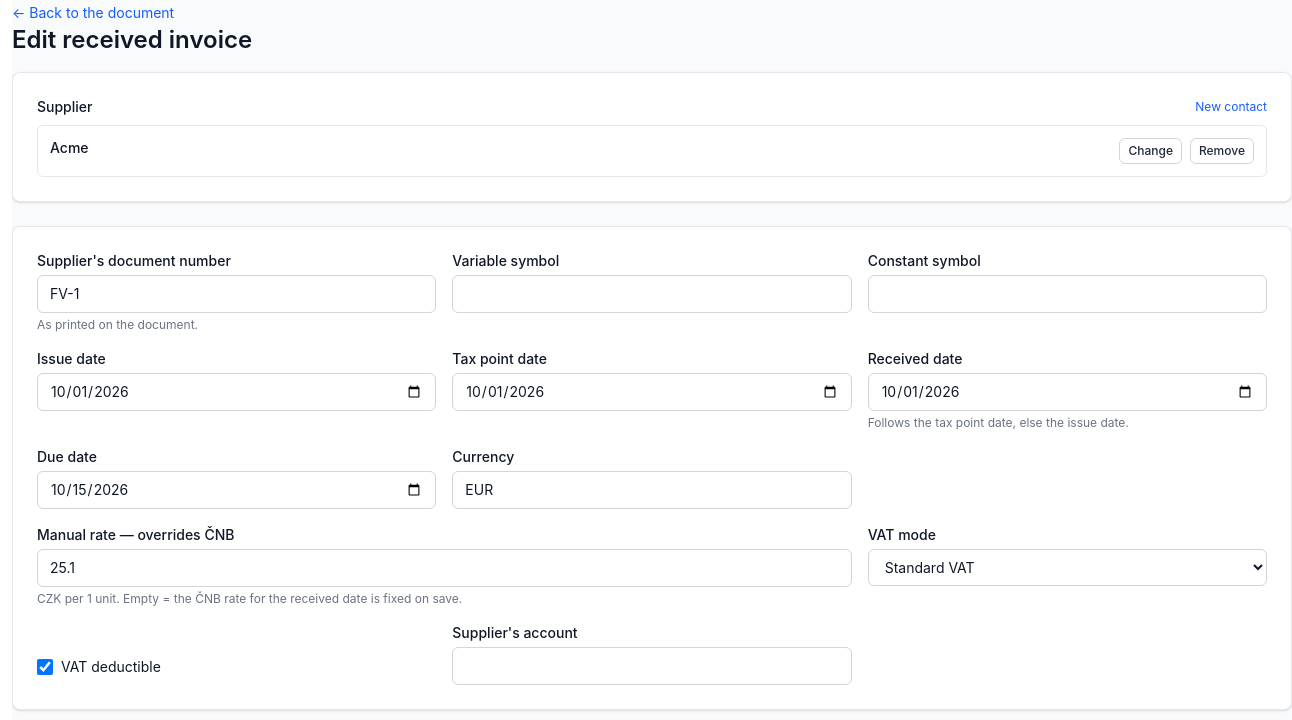
Test: ReceivedEditView › a filled-in manual rate skips the ČNB lookup and its note; clearing it looks the rate up
Clear the field with id "rec-exchangeRate" at (444, 568), box [37, 549, 852, 587]
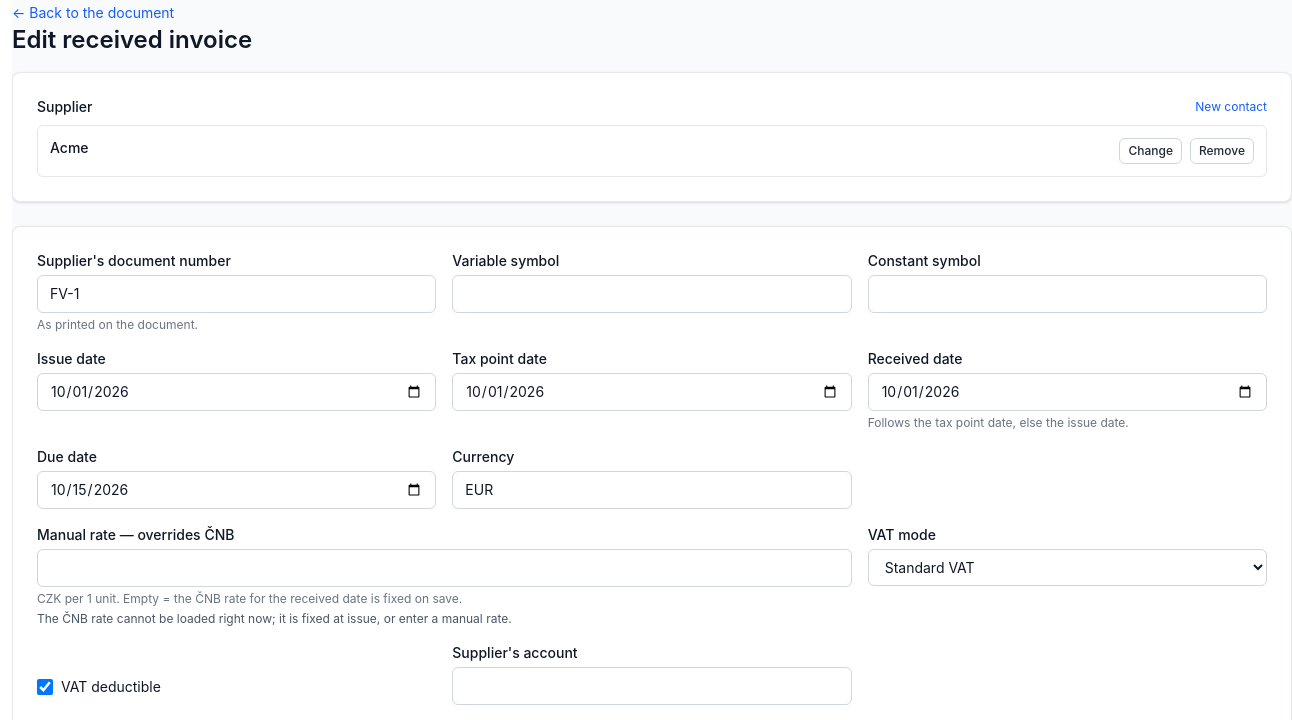
expect the text with test id "indicative-rate" is shown: met, box [37, 611, 512, 626]
